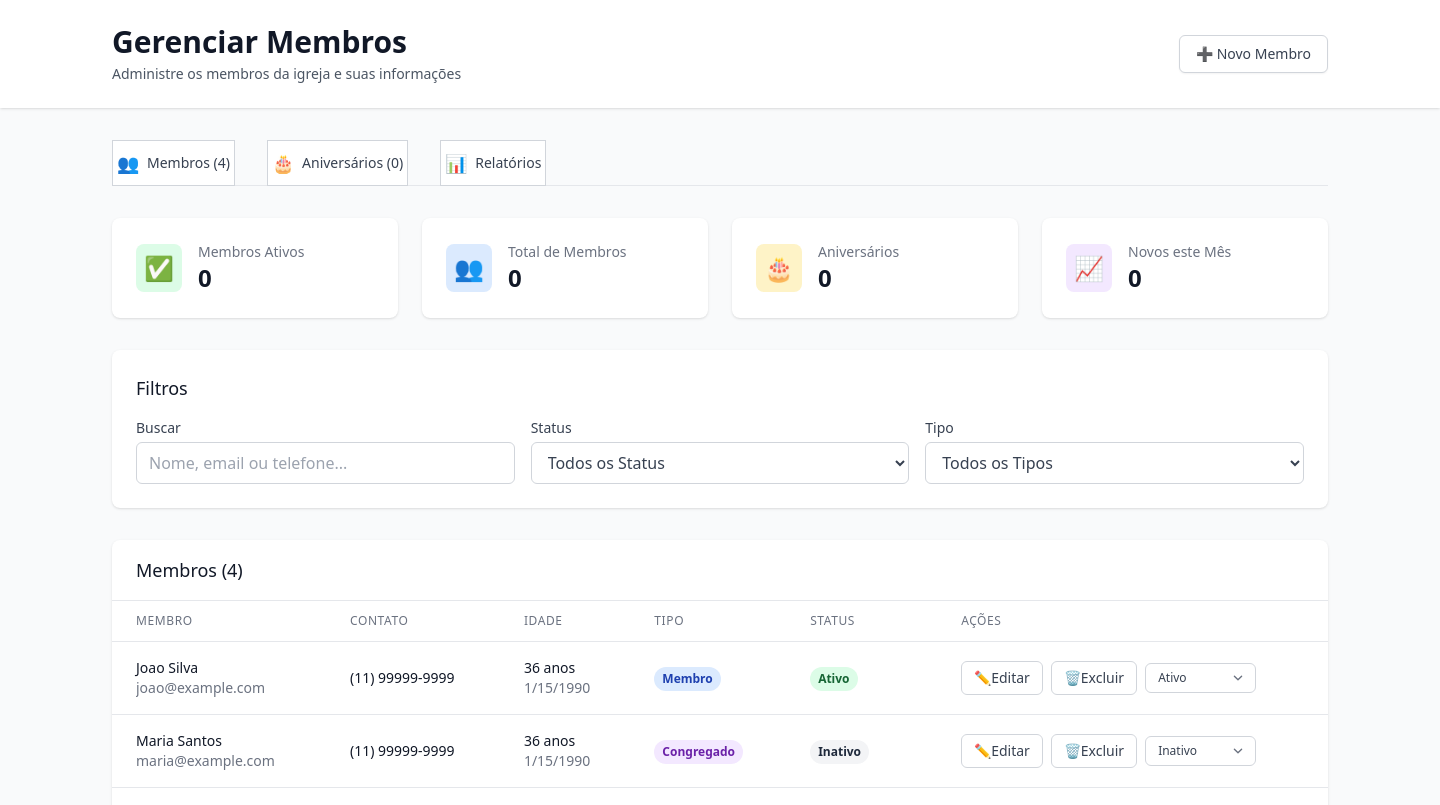
Test case: MembersManagementPage › Filtering › should filter members by member type
Expected: the text "Joao Silva" is shown, [136,658,198,677]
Step 1. Select "Congregados" in the dropdown labelled "Tipo" → (1115, 463), box [925,442,1304,484]
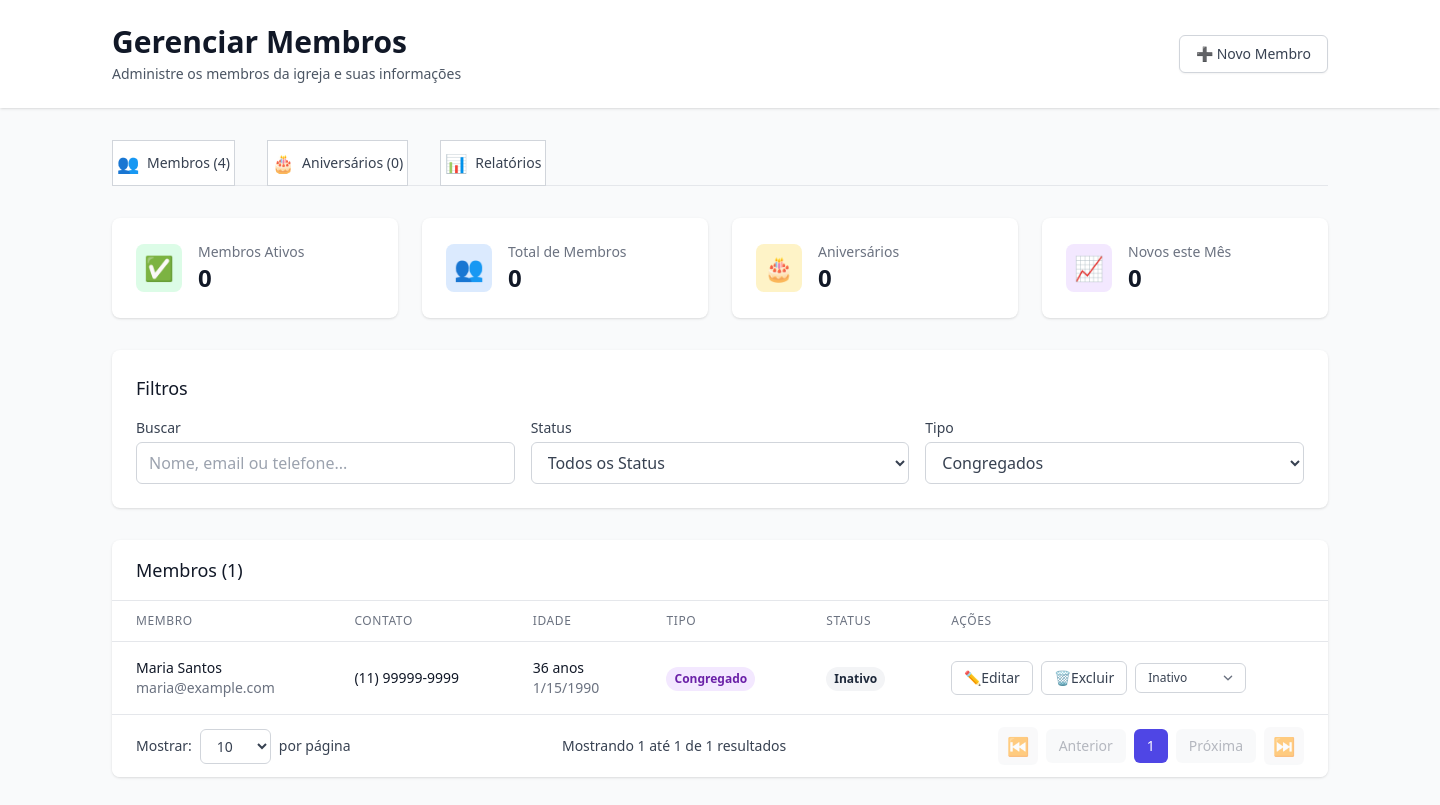
Expected: the text "Maria Santos" is shown, [136,658,222,677]
Expected: the text "Joao Silva" is gone
